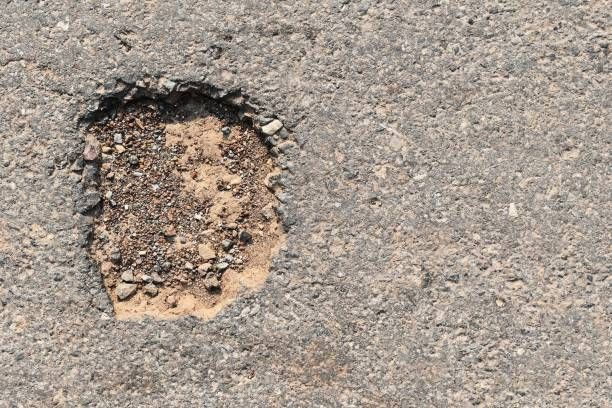potholes: (79, 72, 292, 327)
